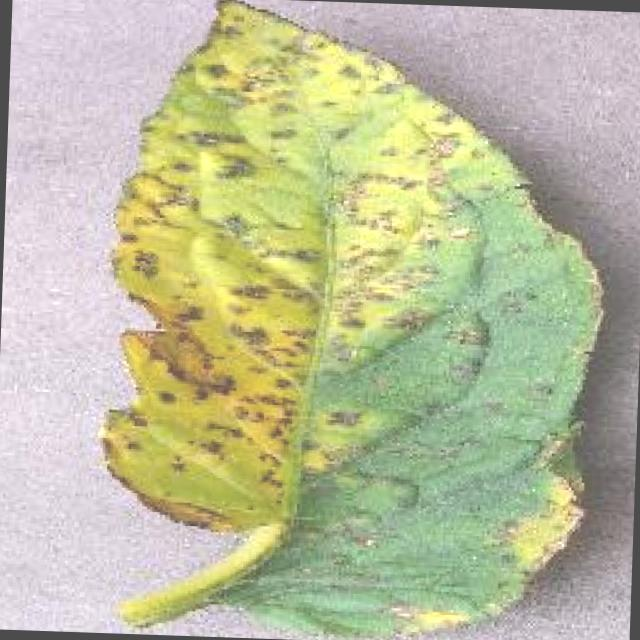bacterial spot: (95, 0, 607, 640)
